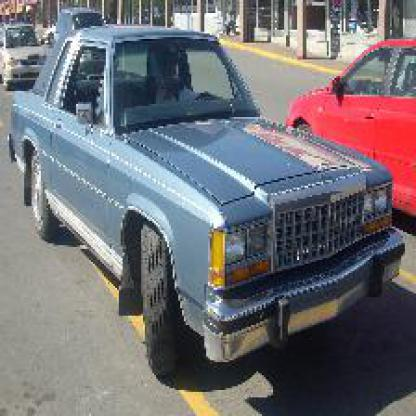not_emergency: (19, 26, 406, 357)
